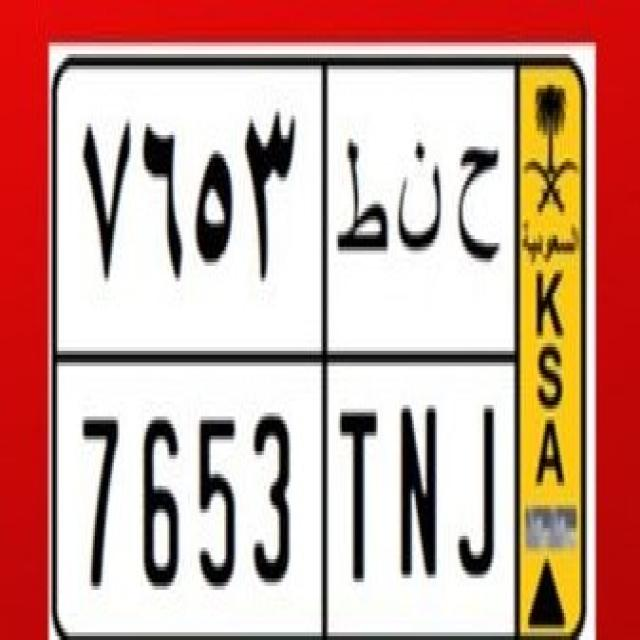license_plate: (73, 390, 503, 595)
